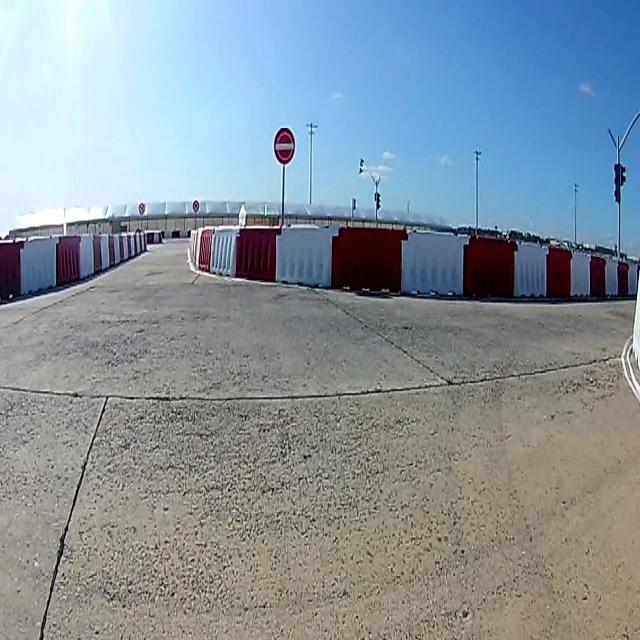girisyok: (276, 130, 294, 162)
